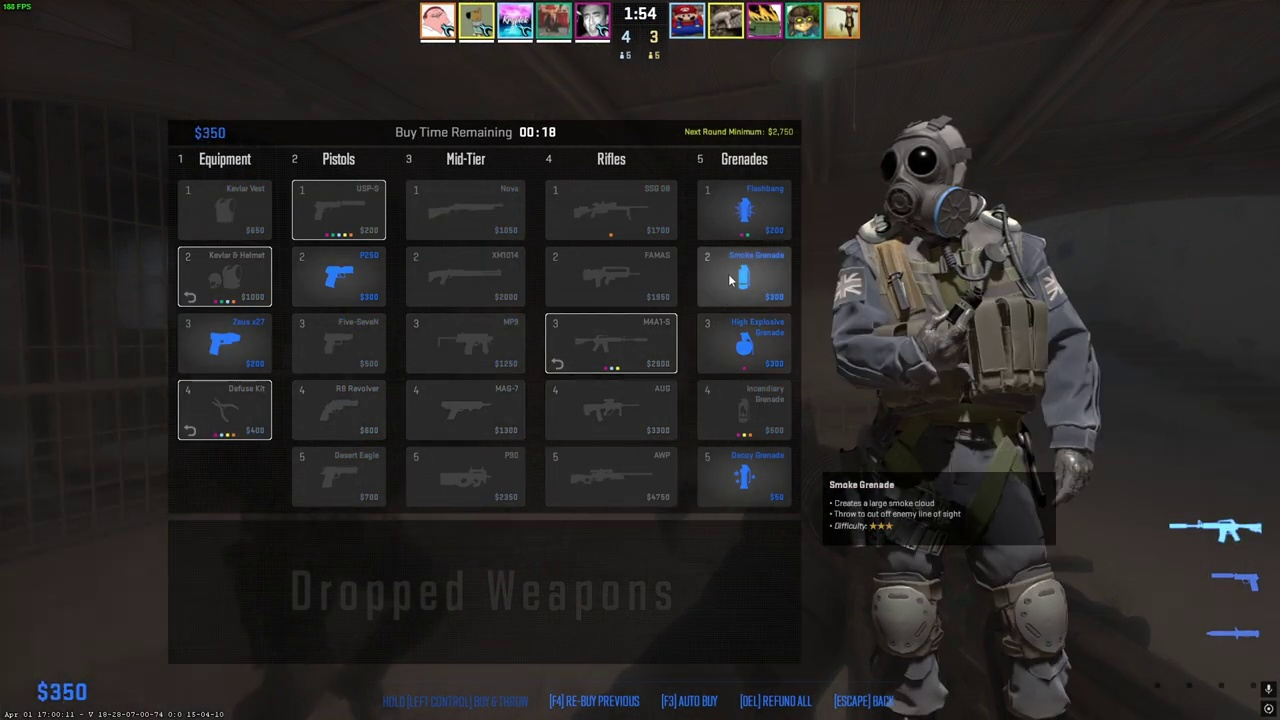CT: (853, 122, 1077, 720)
